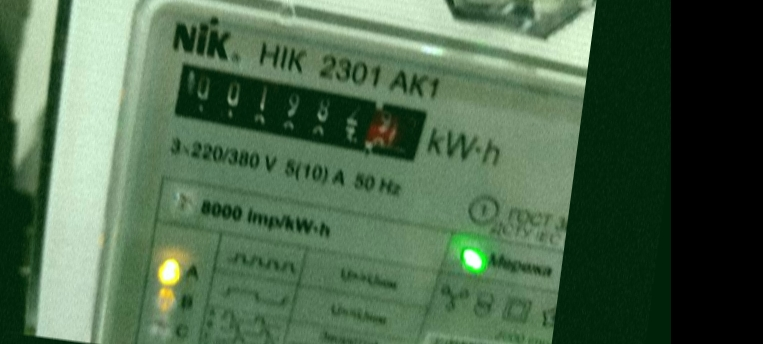0: (220, 75, 241, 106), (191, 68, 211, 99)
1: (252, 79, 268, 109)
2: (341, 94, 362, 125)
8: (311, 91, 331, 120)
9: (371, 103, 394, 134), (280, 86, 299, 116)
screen: (151, 44, 442, 175)
